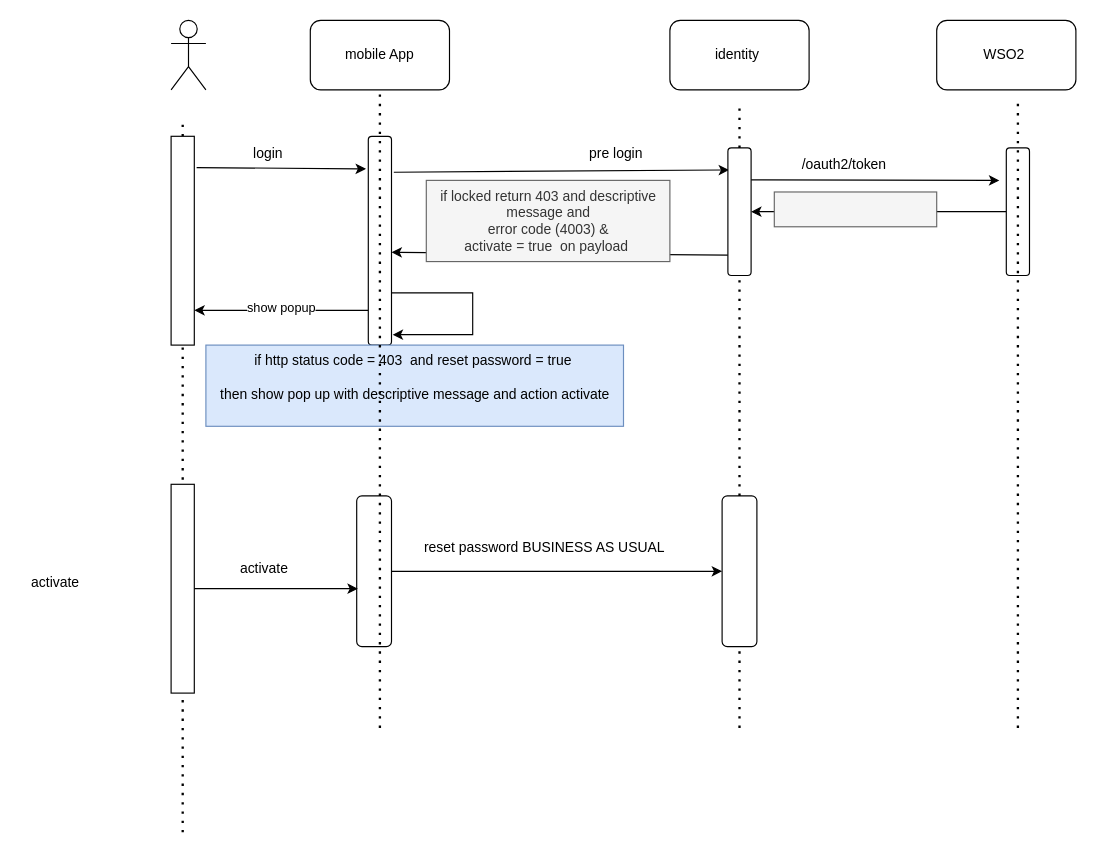
This 1096x855 diagram has some shape labels left out. Here are the shapes that lost their labels. From the top down, the centre of each, then its label:
At (188,54): "Actor".
At (855,209): "403 / account locked".
